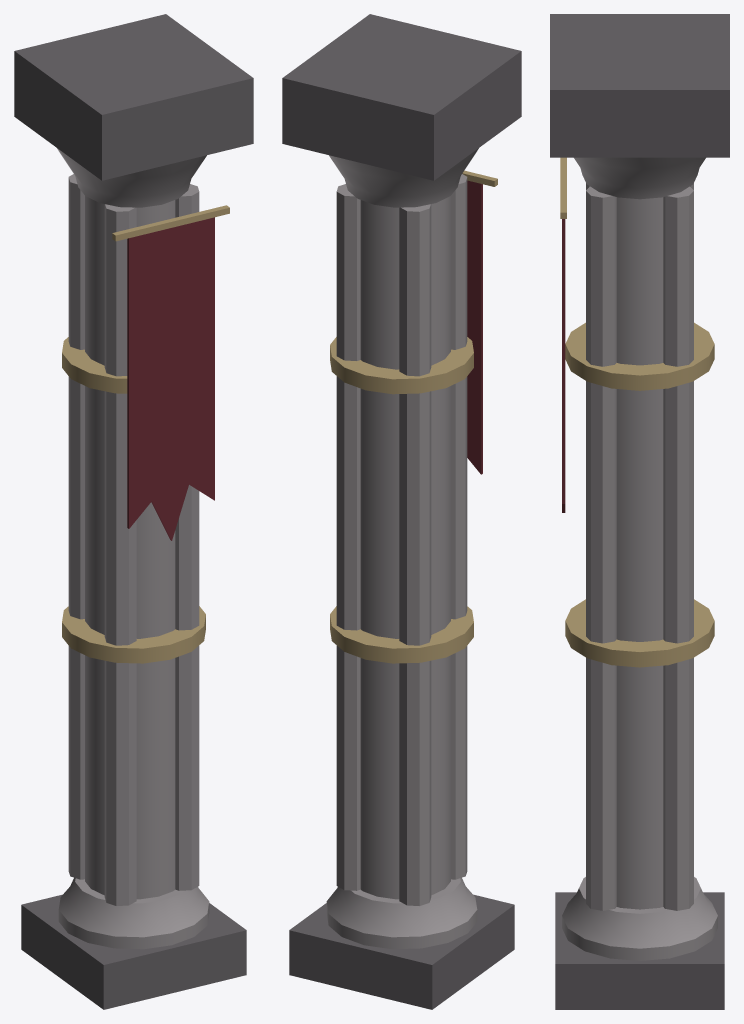
File: pillar.glb
3 views of the same model, side by side, from view 1: azimuth 30°, elevation 25°; view 2: azimuth 150°, elevation 25°; view 3: azimuth 270°, elevation 25° (orthographic). The views are drawn at different scales.
Visible parts, largest first — view 1: Pillar; view 2: Pillar; view 3: Pillar.
Part boxes in pixels (x1=…): Pillar: x1=14, y1=14, x2=253, y2=1009; Pillar: x1=282, y1=14, x2=521, y2=1009; Pillar: x1=550, y1=14, x2=729, y2=1009.
Size of the model in its own units: 1.06 by 6 by 1.06.
